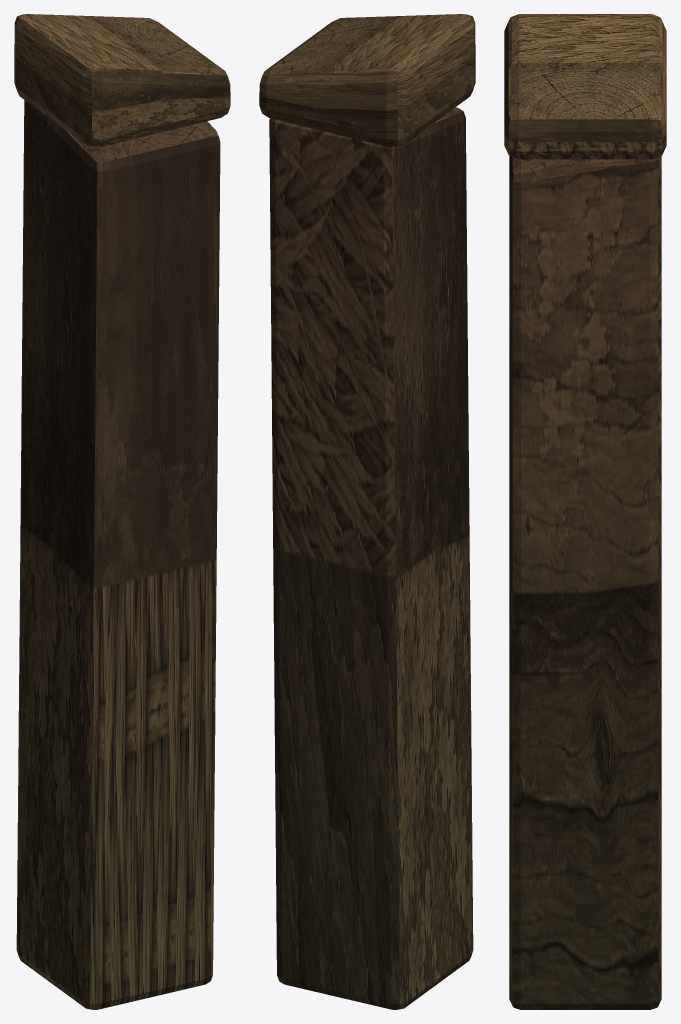
Rendered from fence_post.glb.
3 views of the same model, side by side, from view 1: azimuth 30°, elevation 25°; view 2: azimuth 150°, elevation 25°; view 3: azimuth 270°, elevation 25° (orthographic).
Parts seen in each view (by area): view 1: fence_post; view 2: fence_post; view 3: fence_post.
Boxes of the visible parts, left/top/right/bottom form: fence_post: left=14, top=14, right=230, bottom=1009; fence_post: left=259, top=14, right=475, bottom=1009; fence_post: left=504, top=14, right=666, bottom=1009.
Size of the model in its own units: 0.17 by 1.05 by 0.165.
2 materials, 2 textured.
